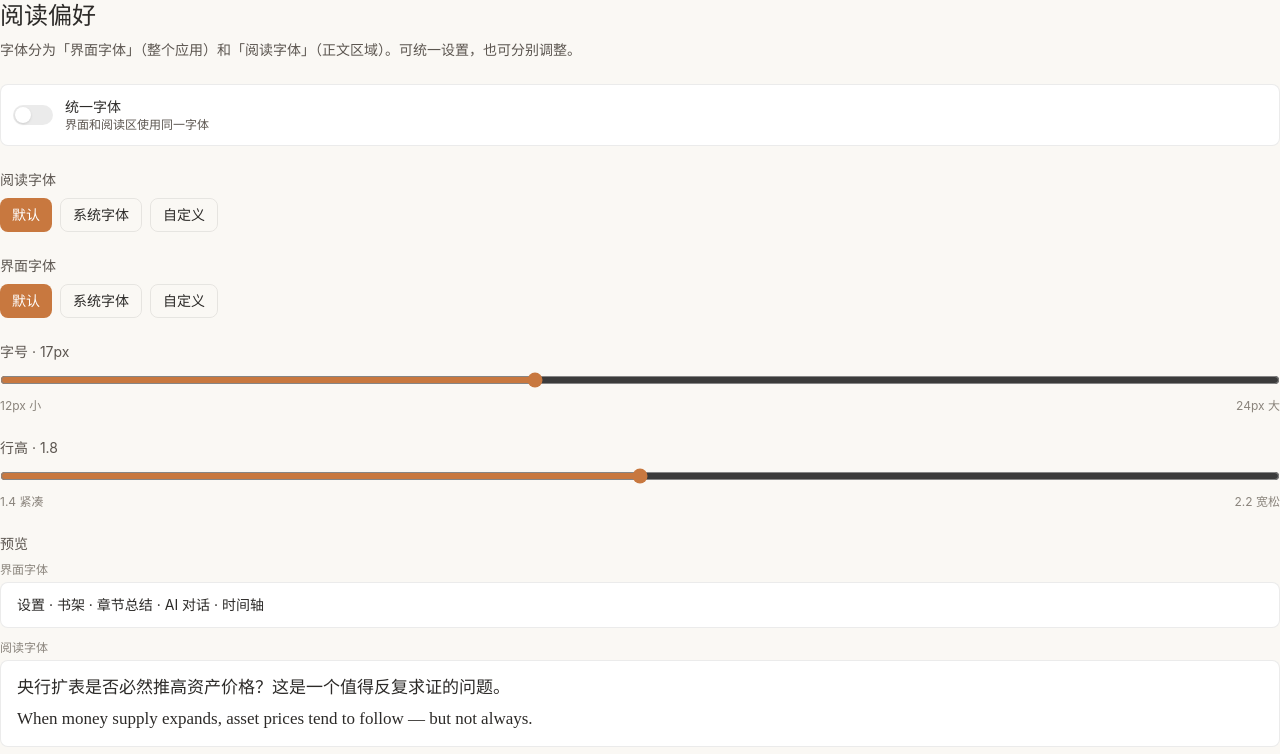
FontPreferences › labels system and custom font inputs by section
The width and height of the screenshot is (1280, 754).
Click the button with aria-label "阅读字体系统字体" at (101, 215), box [60, 198, 142, 232]
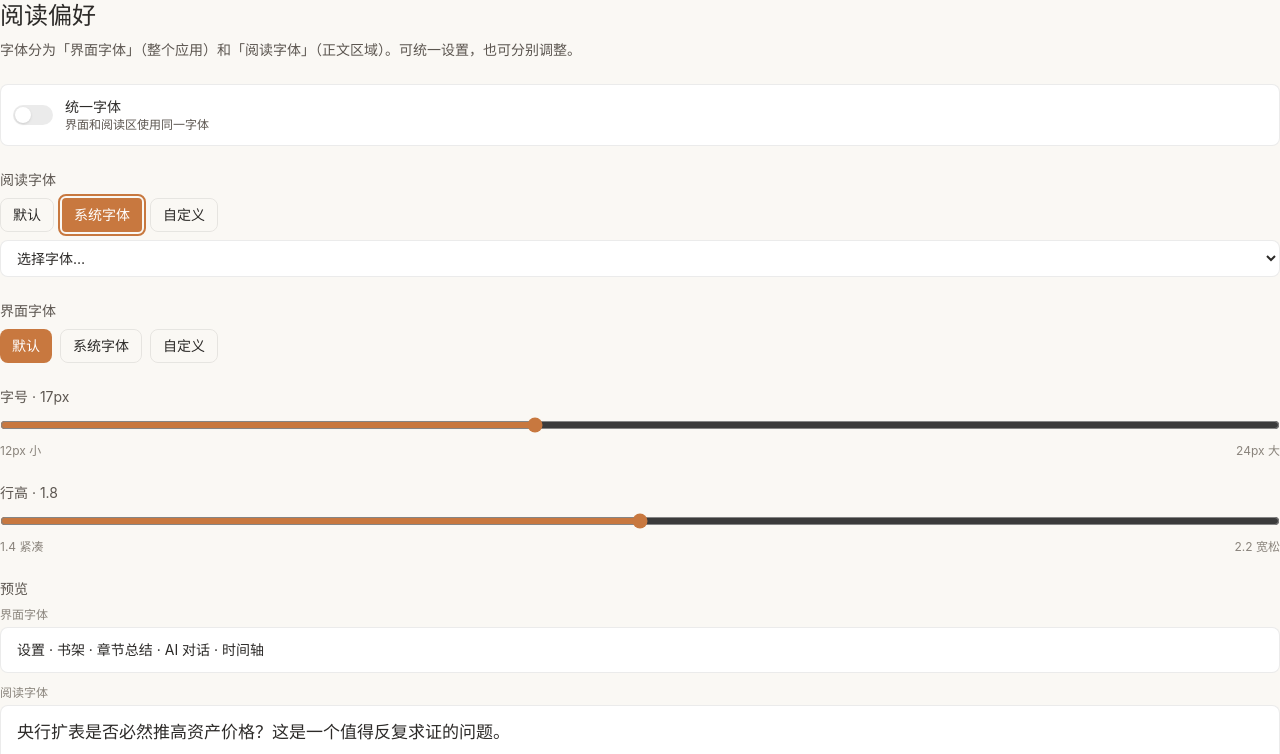
Click the button with aria-label "界面字体自定义" at (184, 346), box [150, 329, 218, 363]
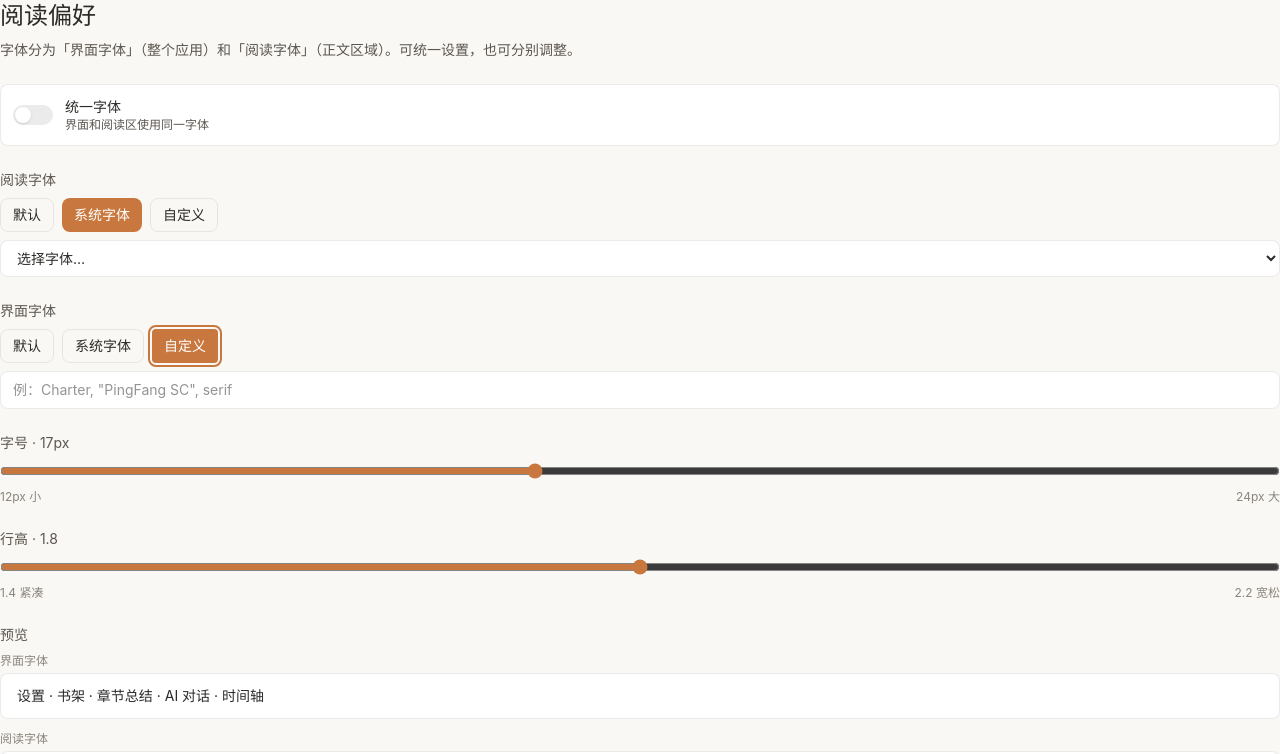
Now the dropdown named "阅读字体系统字体" is shown, box [0, 240, 1279, 277]
Now the field named "界面字体自定义字体" is shown, box [0, 371, 1279, 409]
